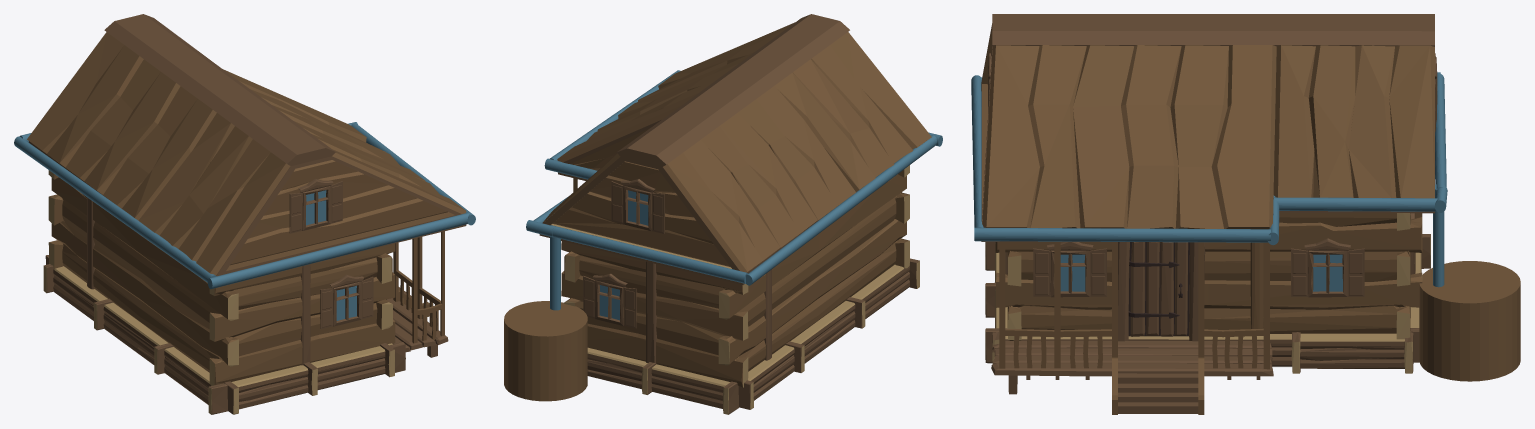
The model's file is woodHouse.glbscene.gltf.
The picture shows the model from 3 angles, left to right: view 1: azimuth 30°, elevation 25°; view 2: azimuth 150°, elevation 25°; view 3: azimuth 270°, elevation 25°; orthographic projection. The views are drawn at different scales.
Visible parts, largest first — view 1: House, Cylinder.004, Cylinder.003, Cylinder.005; view 2: House, Cylinder, Cylinder.003, Cylinder.002, Cylinder.001, Cylinder.005, Cylinder.006; view 3: House, Cylinder, Cylinder.005, Cylinder.007, Cylinder.004, Cylinder.002, Cylinder.001.
Boxes of the visible parts, box(x1,y1,x2,y2) form: House: box(27, 14, 466, 414); Cylinder.004: box(207, 212, 469, 289); Cylinder.003: box(14, 136, 216, 282); Cylinder.005: box(351, 123, 475, 225); House: box(539, 14, 931, 414); Cylinder: box(504, 301, 587, 401); Cylinder.003: box(746, 135, 936, 285); Cylinder.002: box(549, 225, 747, 283); Cylinder.001: box(550, 237, 560, 310); Cylinder.005: box(549, 70, 680, 160); Cylinder.006: box(544, 158, 597, 179); House: box(981, 14, 1437, 414); Cylinder: box(1419, 261, 1520, 381); Cylinder.005: box(974, 227, 1270, 242); Cylinder.007: box(1273, 197, 1437, 211); Cylinder.004: box(971, 75, 983, 227); Cylinder.002: box(1435, 73, 1446, 189); Cylinder.001: box(1433, 184, 1444, 287).
Size of the model in its own units: 3.24 by 2.72 by 4.53.
